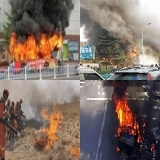fire: (8, 29, 63, 66), (114, 96, 145, 153), (33, 106, 63, 154), (102, 55, 114, 68), (69, 145, 80, 158), (132, 47, 140, 58), (151, 143, 155, 152)
